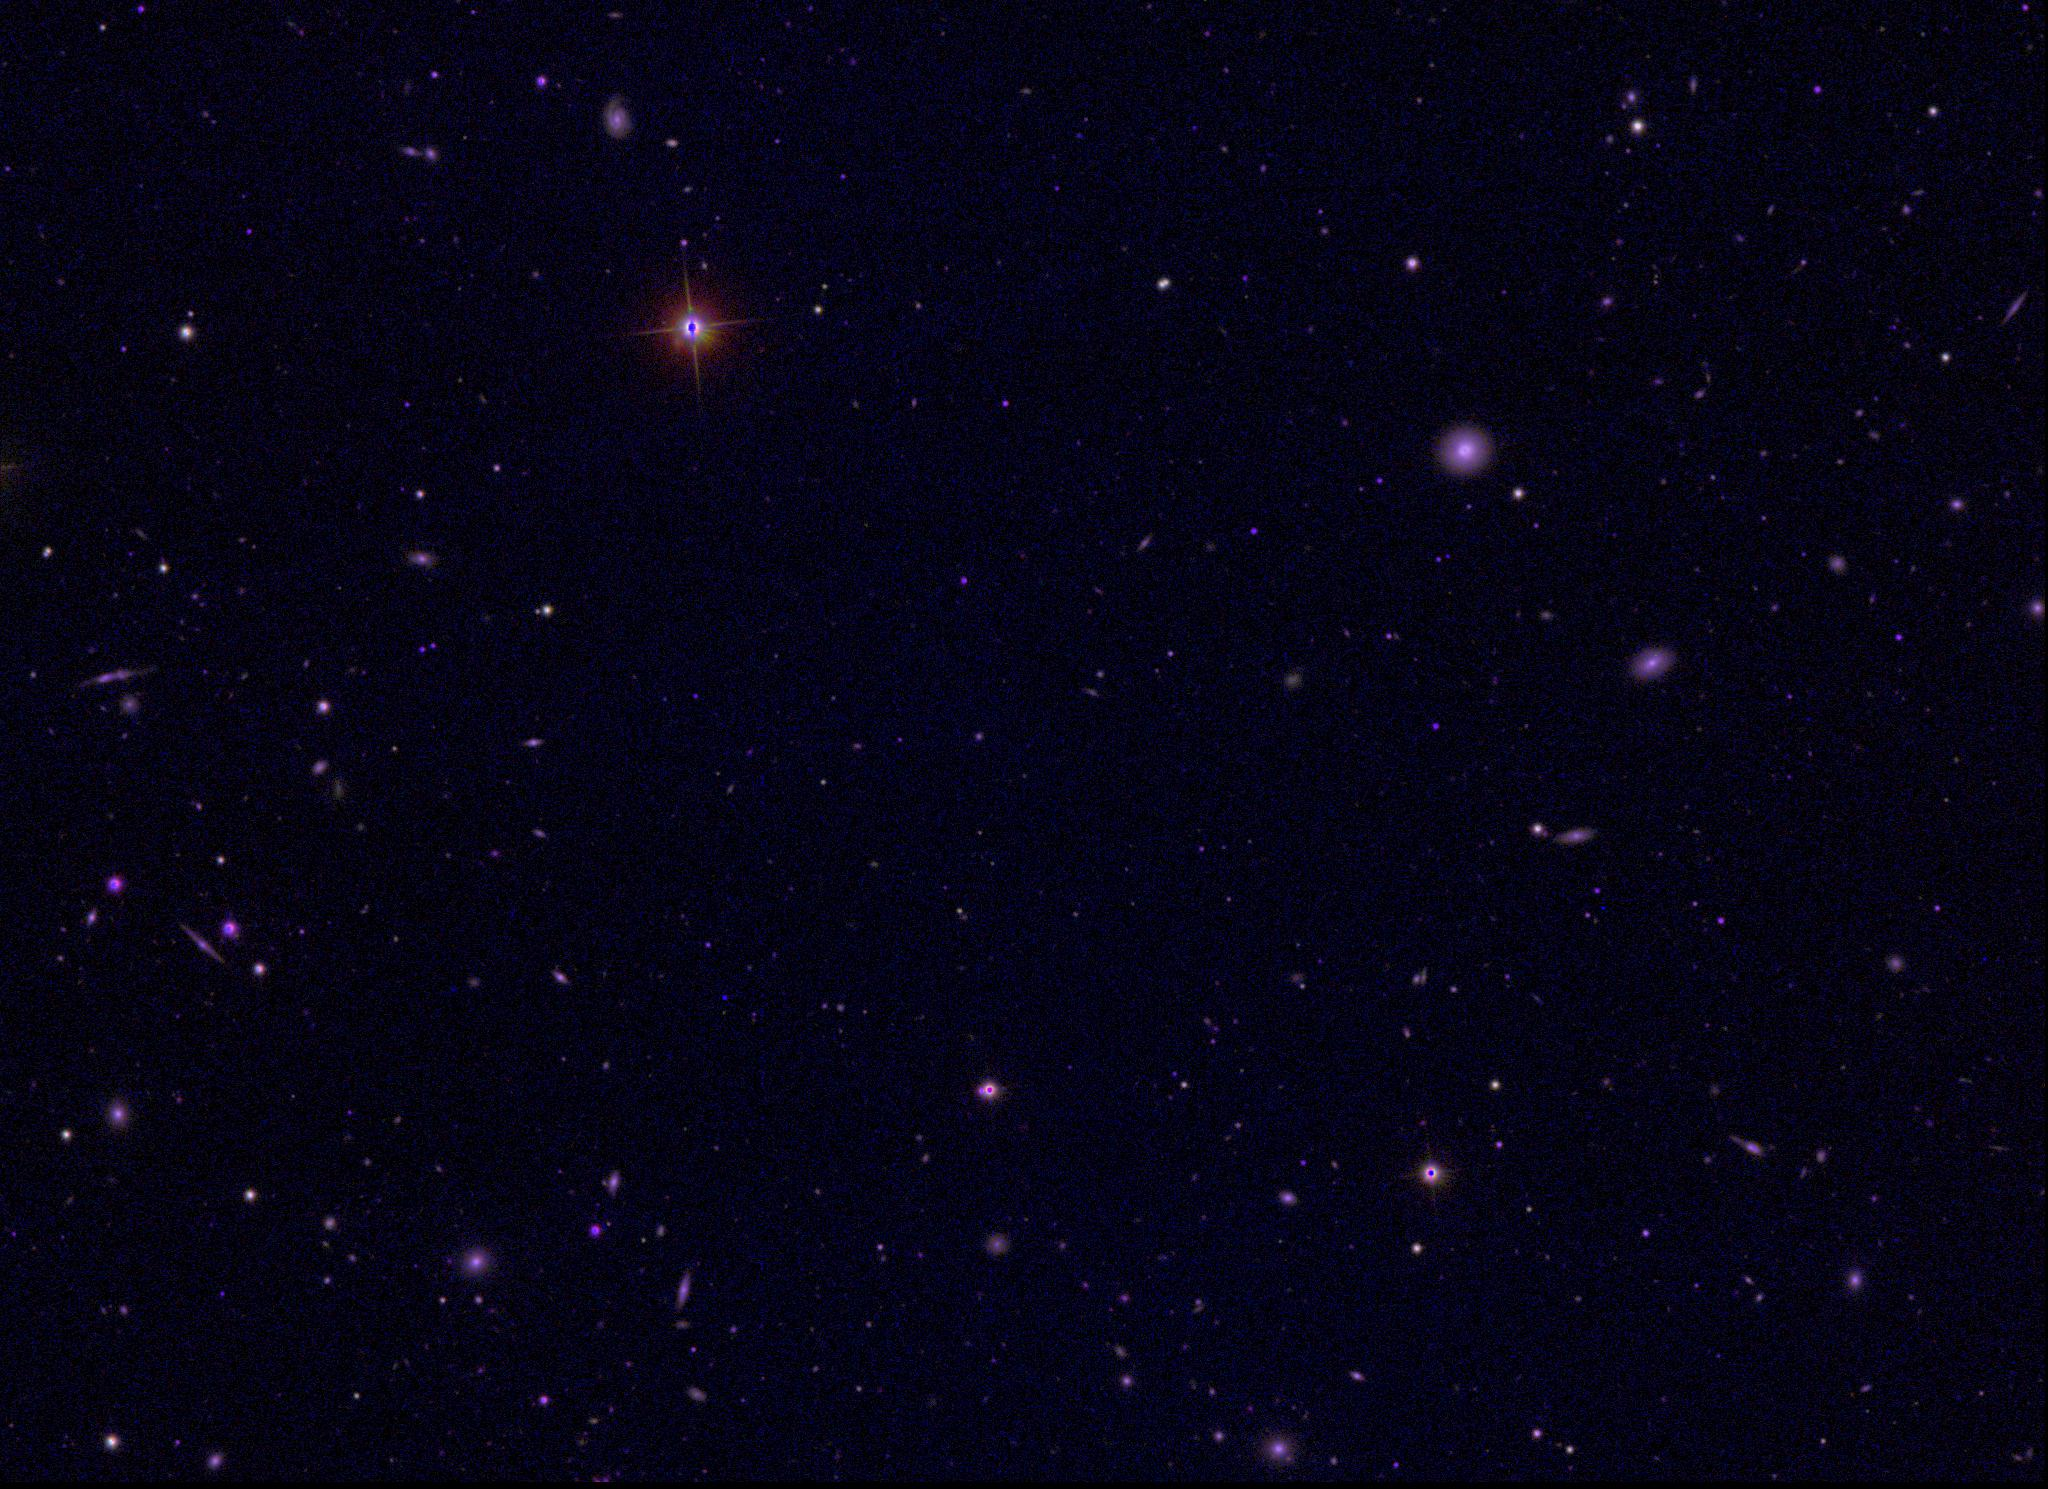L: (716, 993, 730, 1005)
